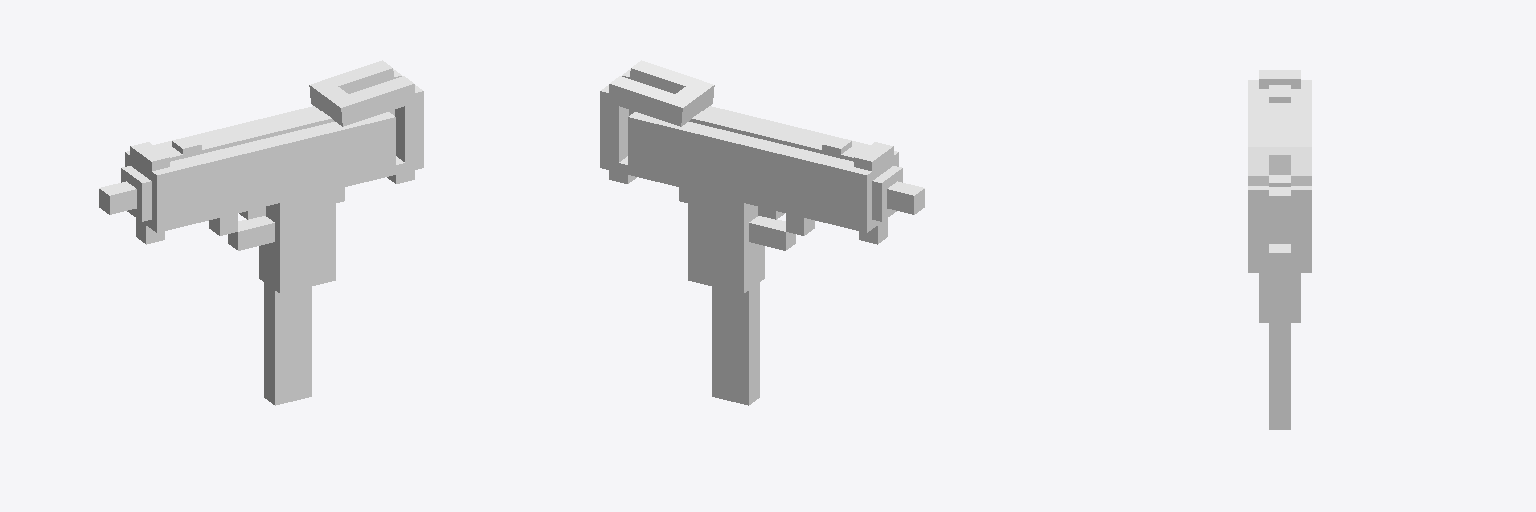
The model's file is mac10.obj.
3 views of the same model, side by side, from view 1: azimuth 30°, elevation 25°; view 2: azimuth 150°, elevation 25°; view 3: azimuth 270°, elevation 25° (orthographic).
Visible parts, largest first — view 1: Shape1, Shape2, Shape3, Shape14, Shape18, Shape12, Shape13, Shape4, Shape7, Shape19, Shape16; view 2: Shape1, Shape2, Shape3, Shape13, Shape18, Shape11, Shape14, Shape4, Shape7, Shape19, Shape16; view 3: Shape1, Shape3, Shape2, Shape11, Shape12, Shape18, Shape9, Shape13, Shape14, Shape16, Shape15.
Boxes of the visible parts, <box> form: Shape1: <box>125,106,395,232</box>; Shape2: <box>259,190,335,293</box>; Shape3: <box>264,282,311,405</box>; Shape14: <box>331,76,415,126</box>; Shape18: <box>161,111,334,161</box>; Shape12: <box>395,85,423,171</box>; Shape13: <box>309,60,393,110</box>; Shape4: <box>228,216,274,250</box>; Shape7: <box>99,181,136,214</box>; Shape19: <box>121,166,151,221</box>; Shape16: <box>130,142,169,180</box>; Shape1: <box>628,106,898,232</box>; Shape2: <box>688,190,764,293</box>; Shape3: <box>712,282,759,405</box>; Shape13: <box>608,76,692,126</box>; Shape18: <box>689,111,862,161</box>; Shape11: <box>600,85,628,171</box>; Shape14: <box>630,60,714,110</box>; Shape4: <box>749,216,795,250</box>; Shape7: <box>887,181,924,214</box>; Shape19: <box>872,166,902,221</box>; Shape16: <box>854,142,893,180</box>; Shape1: <box>1248,80,1311,243</box>; Shape3: <box>1269,323,1290,429</box>; Shape2: <box>1259,273,1300,322</box>; Shape11: <box>1291,186,1311,266</box>; Shape12: <box>1248,186,1268,266</box>; Shape18: <box>1269,85,1290,186</box>; Shape9: <box>1248,244,1311,272</box>; Shape13: <box>1291,147,1311,185</box>; Shape14: <box>1248,147,1268,185</box>; Shape16: <box>1259,70,1300,88</box>; Shape15: <box>1269,147,1290,174</box>.
Size of the model in its own units: 1.03 by 0.9688 by 0.1875.